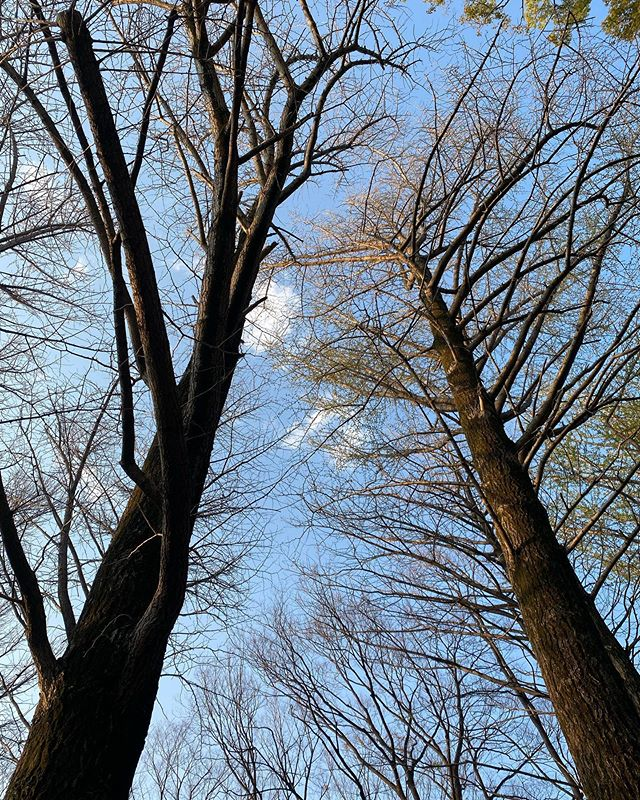tree: (1, 1, 345, 793), (317, 1, 640, 800)
